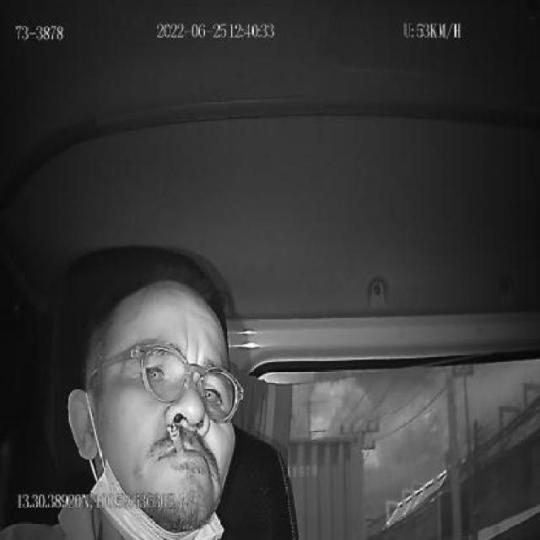smoking: (166, 420, 186, 456)
